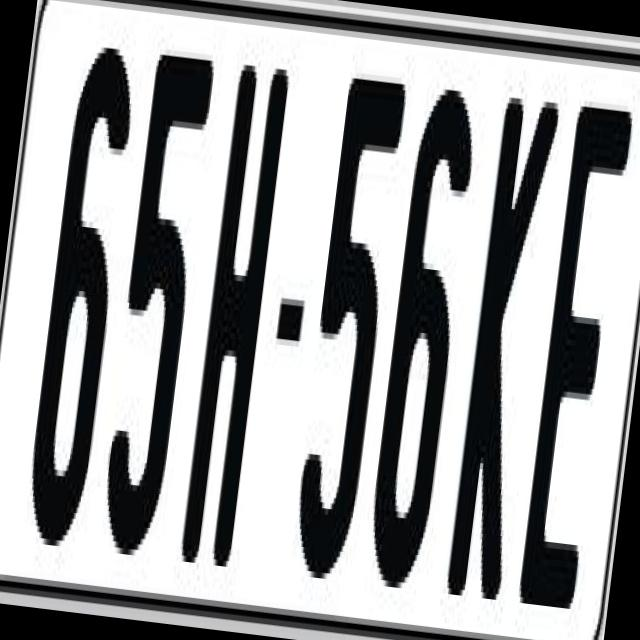5: (284, 77, 412, 599), (94, 48, 218, 558)
6: (18, 27, 146, 560), (358, 80, 478, 596)
E: (516, 100, 634, 615)
H: (174, 51, 289, 566)
K: (445, 90, 562, 594)
